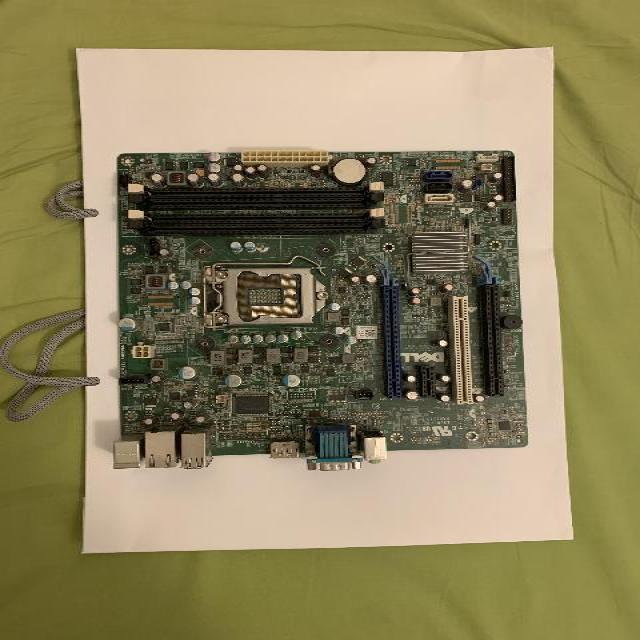Mainboard: (118, 153, 522, 467)
